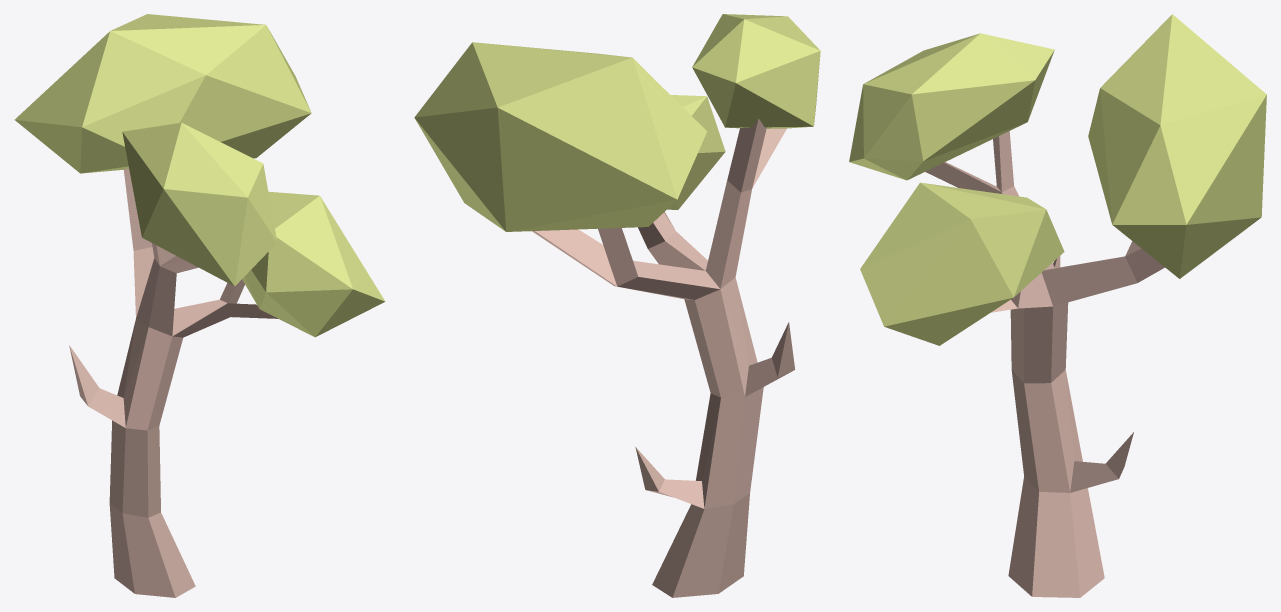
File: EucalyptusTree.fbx
The picture shows the model from 3 angles, left to right: view 1: azimuth 30°, elevation 25°; view 2: azimuth 150°, elevation 25°; view 3: azimuth 270°, elevation 25°; orthographic projection. The views are drawn at different scales.
Visible parts, largest first — view 1: EucalyptusTree; view 2: EucalyptusTree; view 3: EucalyptusTree.
Part boxes in pixels (x1=…): EucalyptusTree: x1=14, y1=14, x2=385, y2=597; EucalyptusTree: x1=414, y1=14, x2=820, y2=597; EucalyptusTree: x1=849, y1=14, x2=1266, y2=597.
Bounding box in the file's own units: 752 × 1306 × 866.
